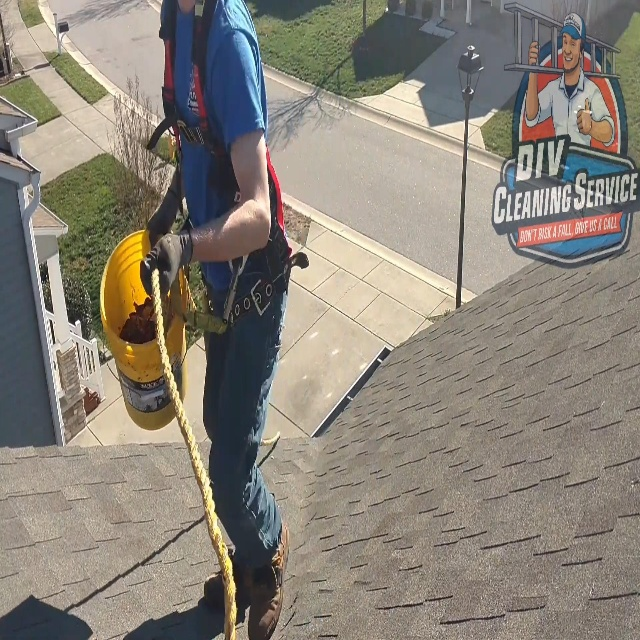Arnes_seguridad: (144, 0, 311, 323)
